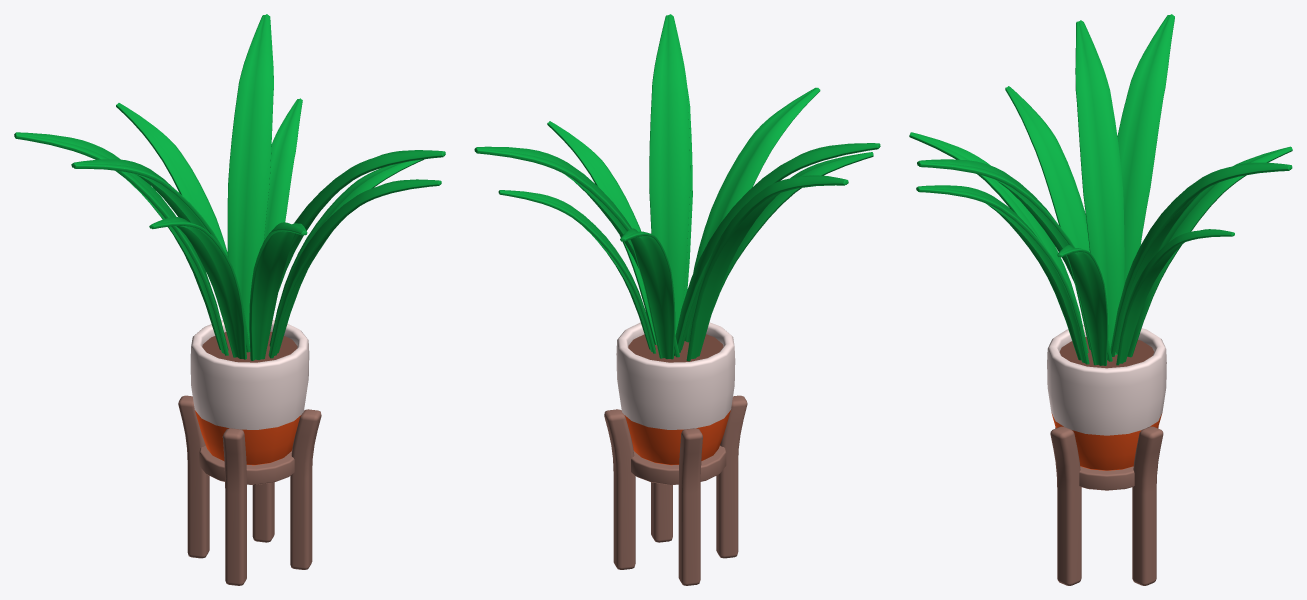
File: City_1_Plant_on_stand_1.glb
3 views of the same model, side by side, from view 1: azimuth 30°, elevation 25°; view 2: azimuth 150°, elevation 25°; view 3: azimuth 270°, elevation 25° (orthographic).
Visible parts, largest first — view 1: City_1_Plant_on_stand_1; view 2: City_1_Plant_on_stand_1; view 3: City_1_Plant_on_stand_1.
Boxes of the visible parts, x1,y1,x2,y2 form: City_1_Plant_on_stand_1: (14, 14, 445, 585); City_1_Plant_on_stand_1: (474, 14, 880, 585); City_1_Plant_on_stand_1: (909, 14, 1292, 585).
Bounding box in the file's own units: 1.57 × 1.93 × 1.47.
1 material, 1 textured.
